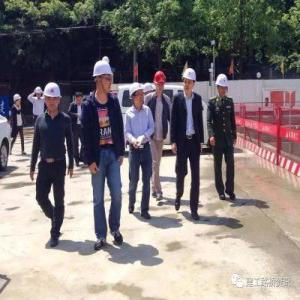none: (76, 92, 84, 105)
red: (154, 72, 168, 94)
white: (94, 60, 114, 96), (44, 82, 63, 114), (129, 83, 146, 108), (183, 68, 197, 96), (217, 74, 230, 97), (13, 94, 22, 107), (35, 87, 43, 100)
